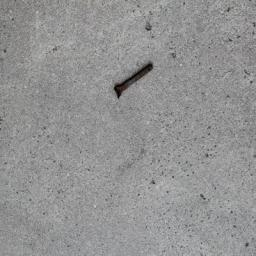FOD: (112, 62, 158, 101)
